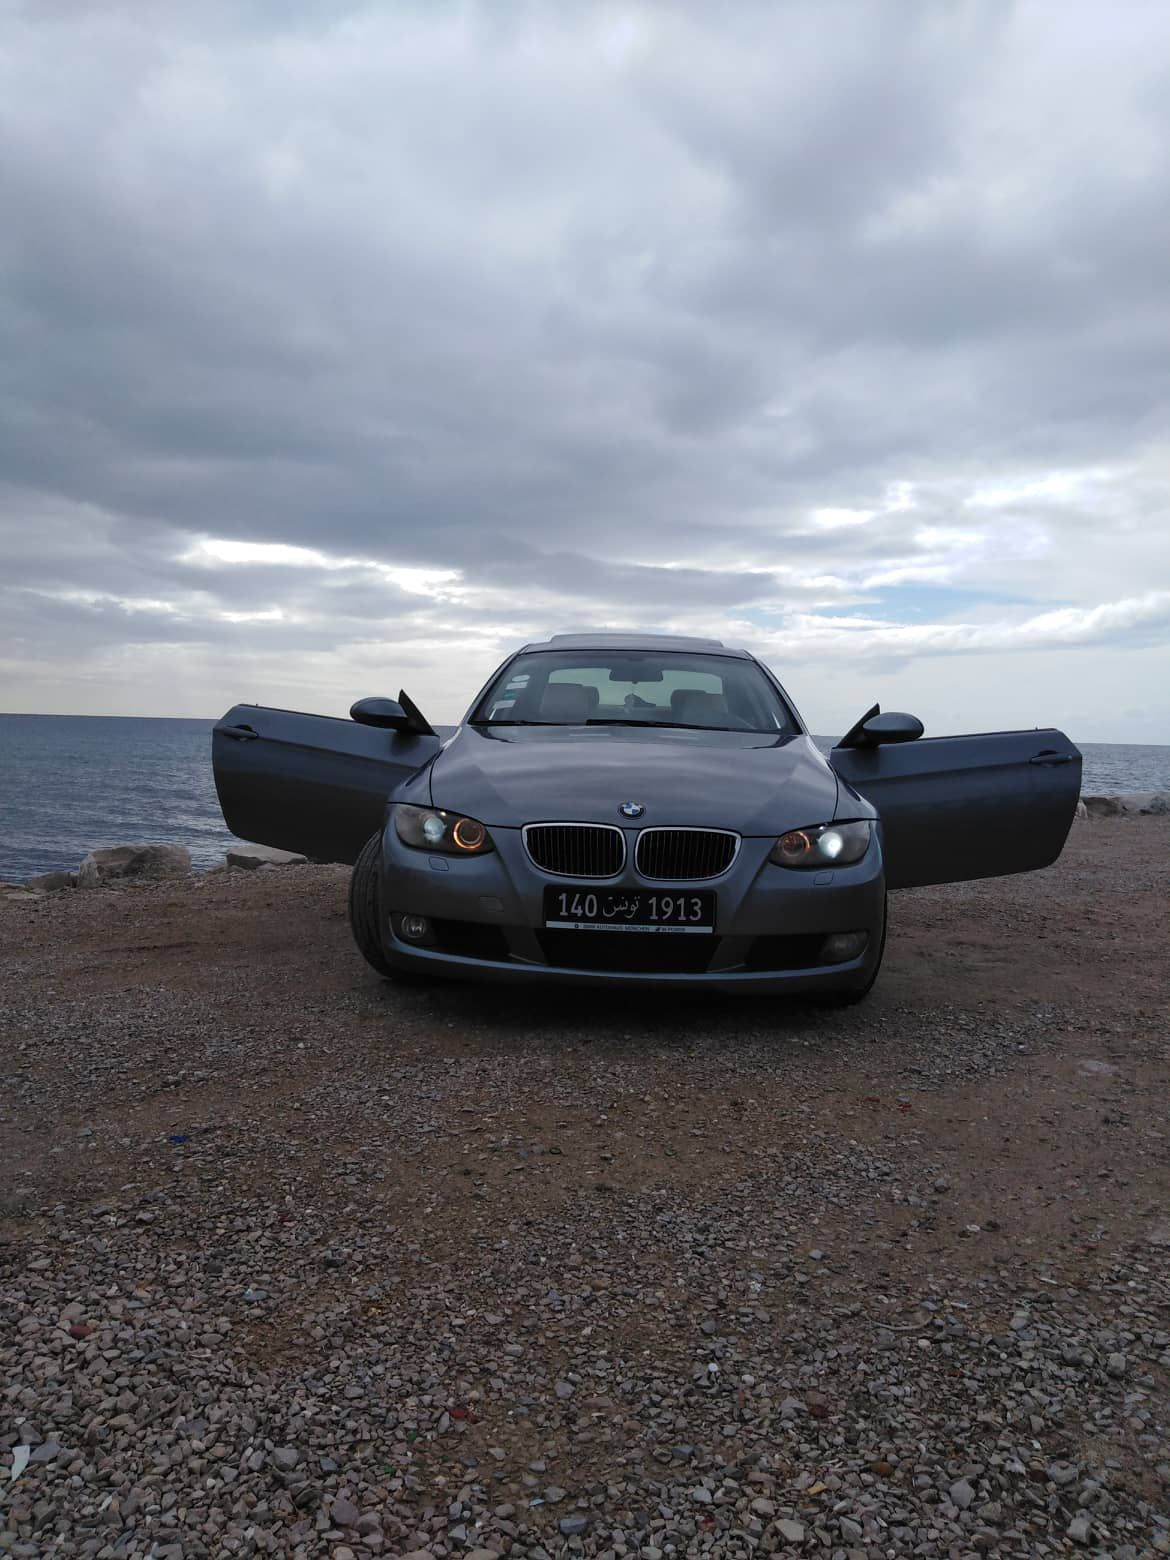LP: (545, 886, 716, 926)
